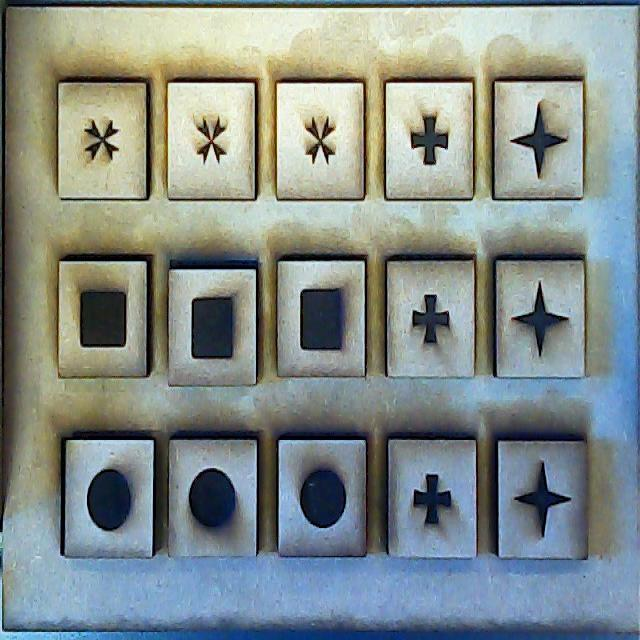circle: (169, 437, 260, 562), (66, 436, 157, 560), (276, 436, 364, 558)
maltese: (57, 81, 151, 202), (278, 80, 370, 199), (166, 82, 257, 202)
square: (169, 264, 259, 386), (57, 260, 153, 374), (278, 262, 365, 375)
star: (497, 436, 588, 560), (494, 82, 586, 198), (494, 260, 584, 376)
temple: (386, 439, 477, 561), (387, 80, 475, 200), (386, 257, 476, 372)
